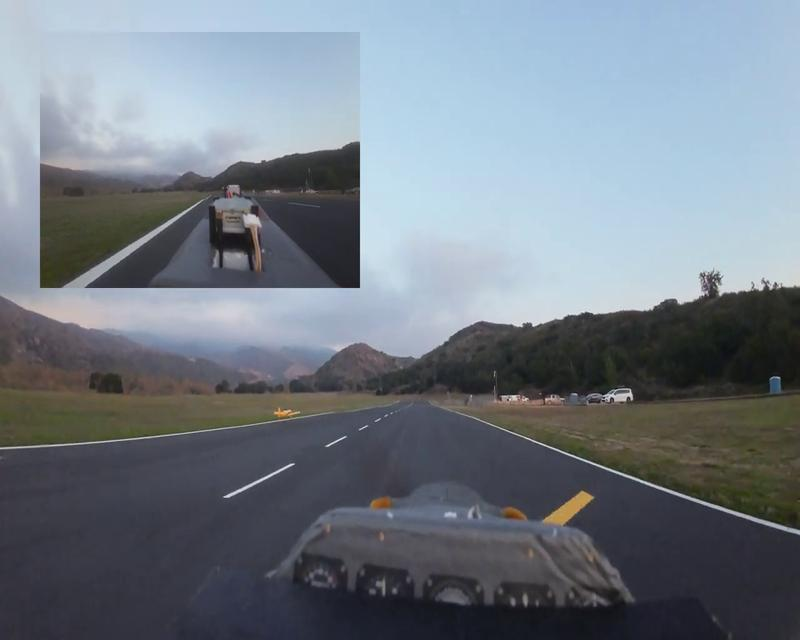UAV: (278, 479, 635, 611), (271, 404, 300, 422)
